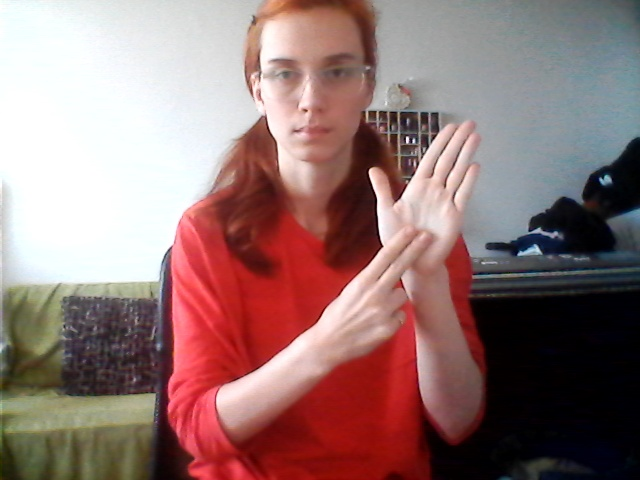n: (350, 114, 491, 352)
